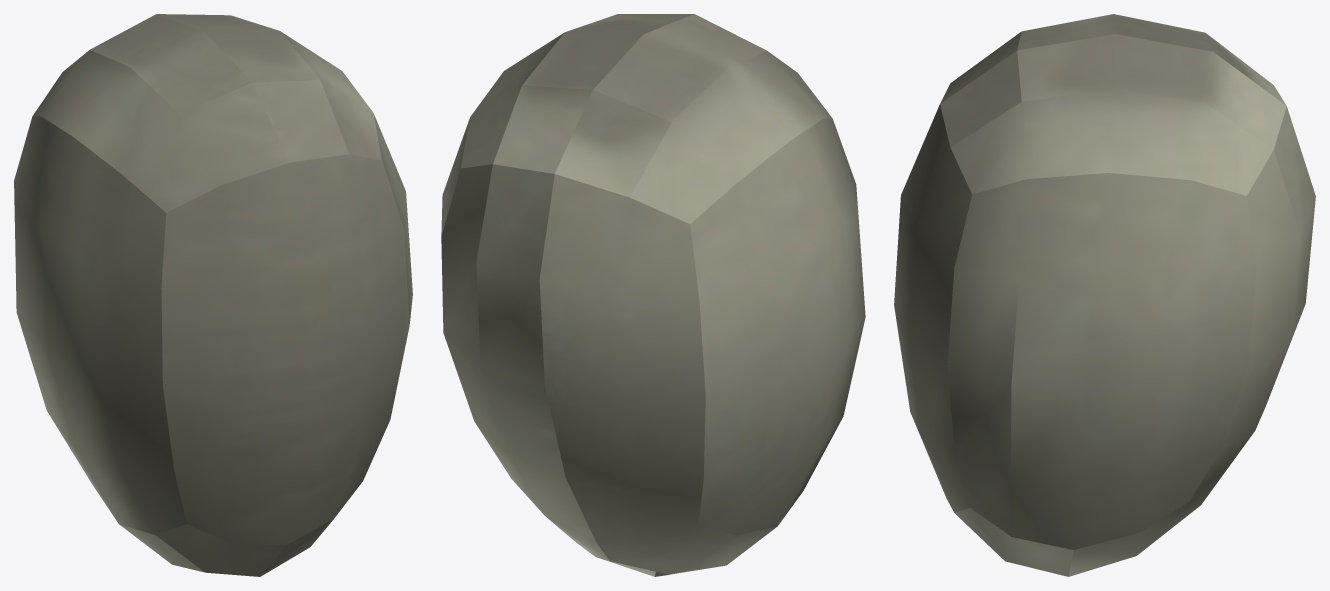
Rendered from head_highlight.obj.
3 views of the same model, side by side, from view 1: azimuth 30°, elevation 25°; view 2: azimuth 150°, elevation 25°; view 3: azimuth 270°, elevation 25° (orthographic). The views are drawn at different scales.
Parts seen in each view (by area): view 1: head_highlight.obj; view 2: head_highlight.obj; view 3: head_highlight.obj.
Boxes of the visible parts, x1,y1,x2,y2 form: head_highlight.obj: [14, 14, 412, 576]; head_highlight.obj: [441, 14, 865, 576]; head_highlight.obj: [894, 14, 1315, 576].
Size of the model in its own units: 0.1504 by 0.2202 by 0.1581.
